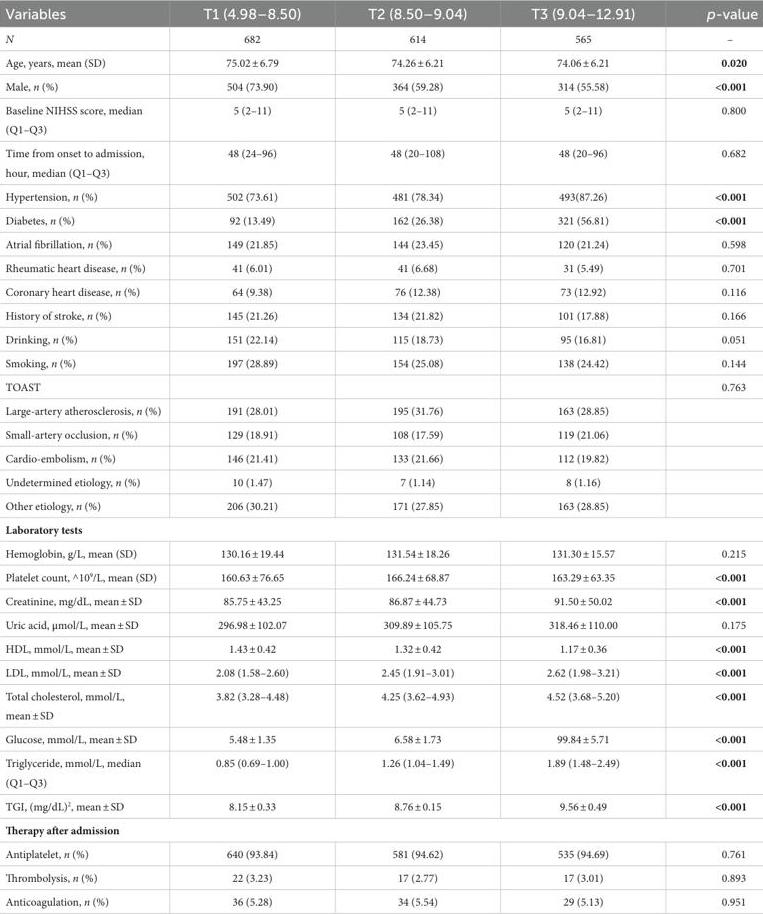table: (5, 5, 757, 908)
table column: (5, 5, 181, 908), (498, 5, 670, 908), (334, 5, 498, 908), (181, 5, 334, 908), (670, 5, 757, 908)
table column header: (5, 5, 757, 26)
table projected row header: (5, 517, 757, 541), (5, 817, 757, 841)
table row: (5, 683, 757, 727), (5, 750, 757, 794), (5, 98, 757, 141), (5, 141, 757, 184), (5, 26, 757, 50), (5, 50, 757, 74), (5, 74, 757, 98), (5, 184, 757, 208), (5, 231, 757, 255), (5, 255, 757, 279), (5, 279, 757, 303), (5, 303, 757, 327), (5, 350, 757, 374), (5, 374, 757, 398), (5, 398, 757, 422), (5, 445, 757, 469), (5, 469, 757, 493), (5, 493, 757, 517), (5, 517, 757, 541), (5, 564, 757, 588), (5, 588, 757, 612), (5, 612, 757, 636), (5, 636, 757, 660), (5, 817, 757, 841), (5, 841, 757, 865), (5, 865, 757, 889), (5, 208, 757, 231), (5, 327, 757, 350), (5, 422, 757, 445), (5, 541, 757, 564), (5, 660, 757, 683), (5, 727, 757, 750), (5, 794, 757, 817), (5, 5, 757, 26), (5, 889, 757, 908)
